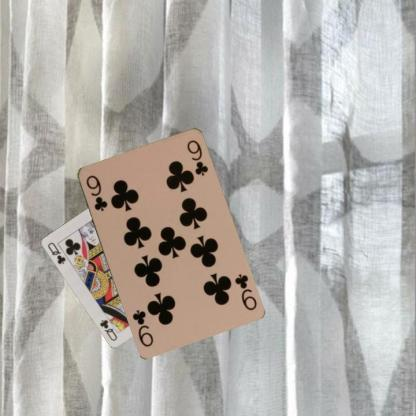9c: (232, 270, 258, 312), (83, 172, 109, 213)
Qc: (45, 240, 67, 266)
